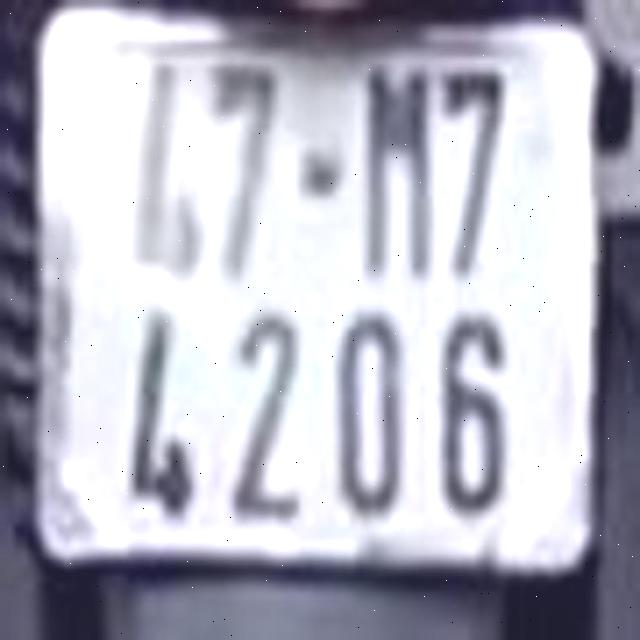0: (334, 308, 405, 518)
2: (227, 309, 305, 522)
4: (122, 308, 201, 525), (130, 62, 204, 285)
6: (438, 310, 509, 515)
7: (209, 62, 280, 282), (442, 68, 509, 276)
M: (356, 59, 436, 279)
